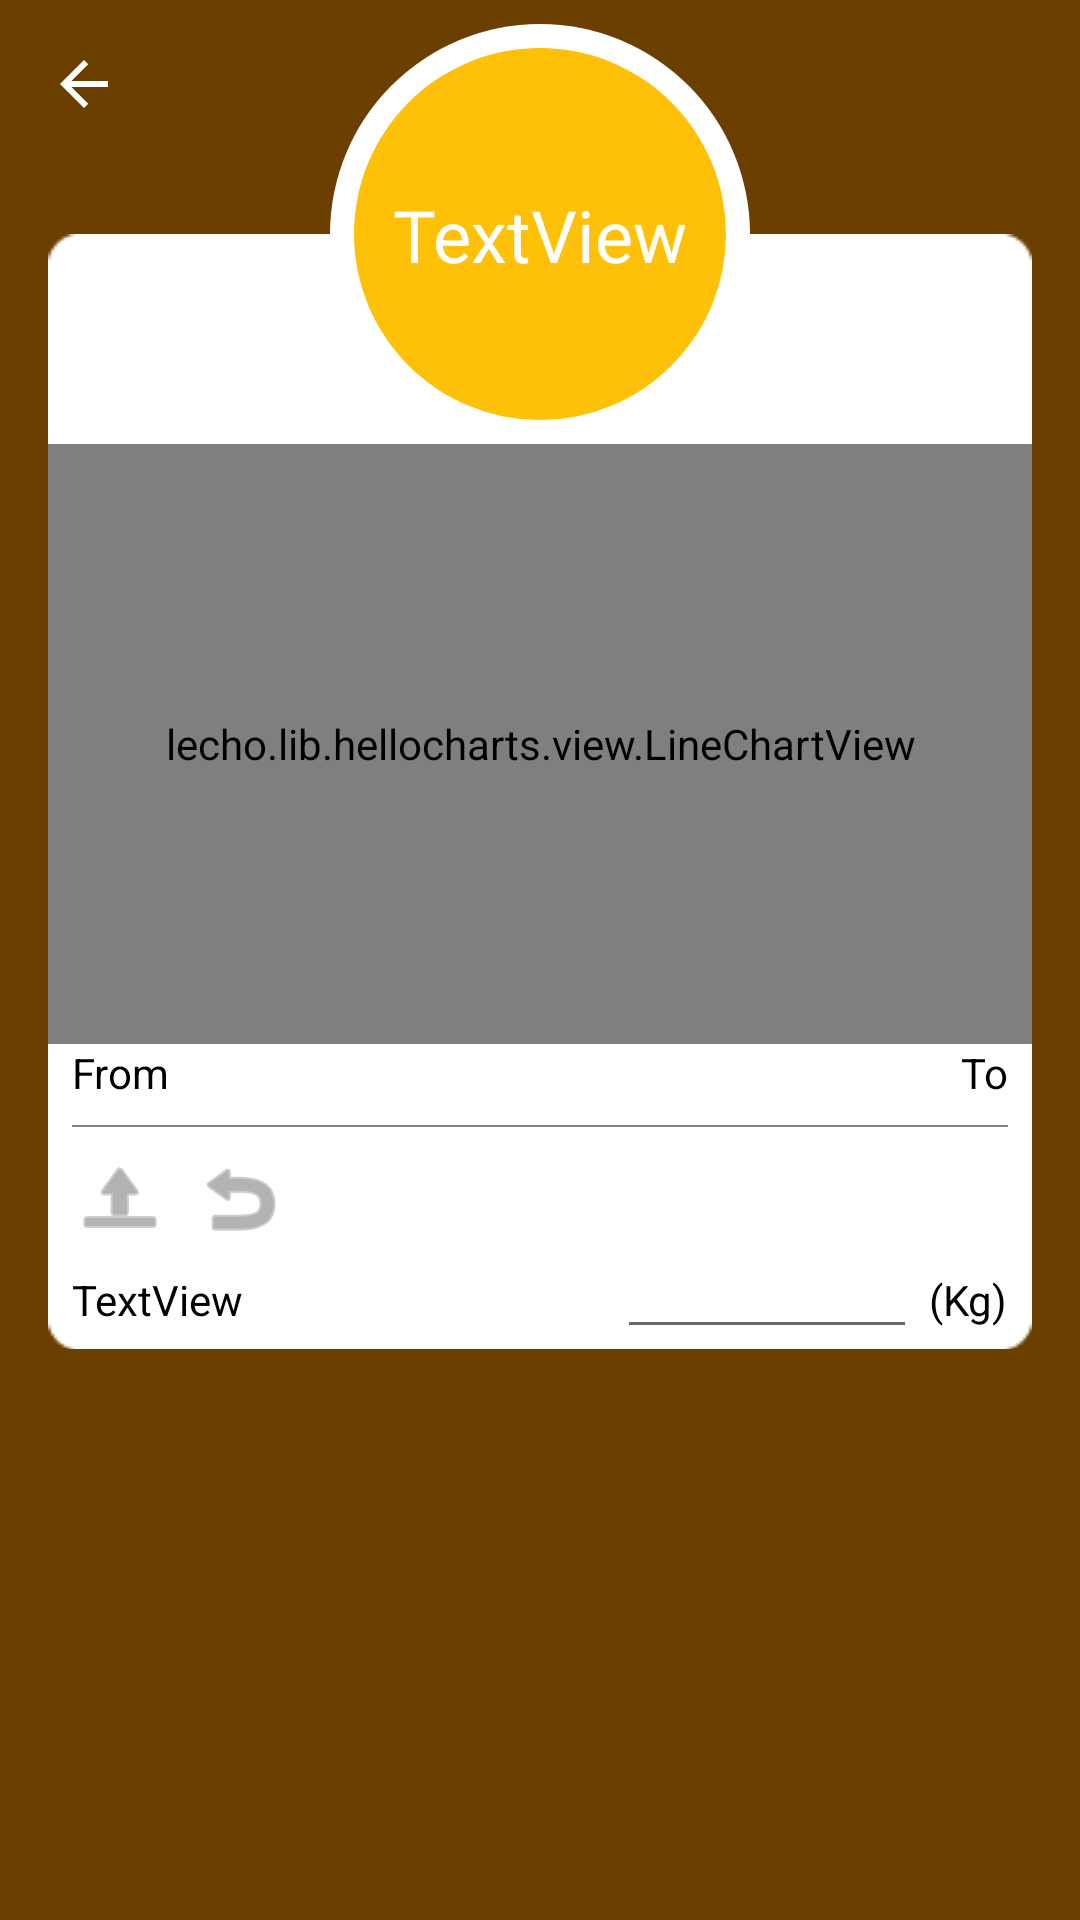

Icon click points for this 1080px×1920px phone screenshot, format point (x, y):
revert: point (241, 1200)
upload: point (120, 1197)
